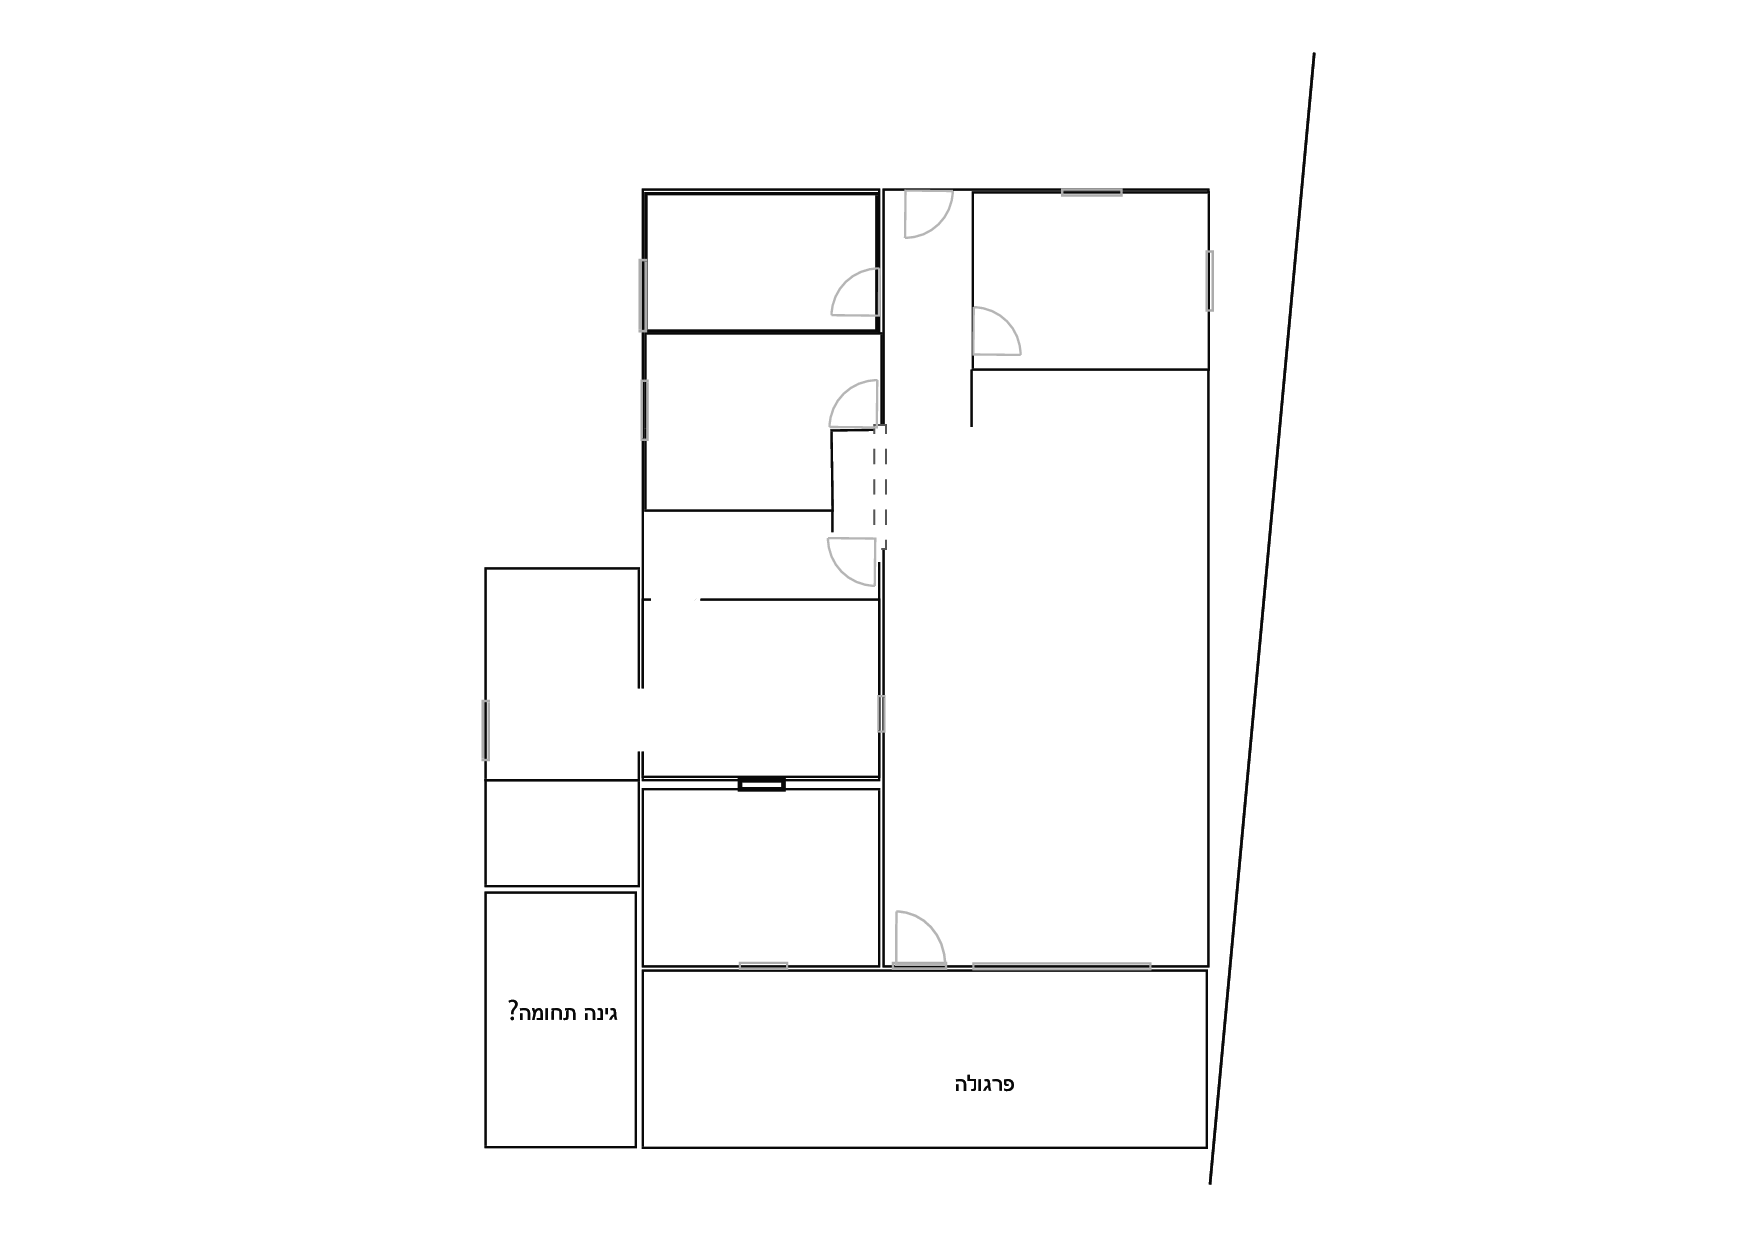door: (887, 906, 956, 978), (827, 374, 894, 433), (825, 262, 892, 319), (894, 187, 961, 244), (969, 305, 1036, 362), (823, 530, 890, 588)
